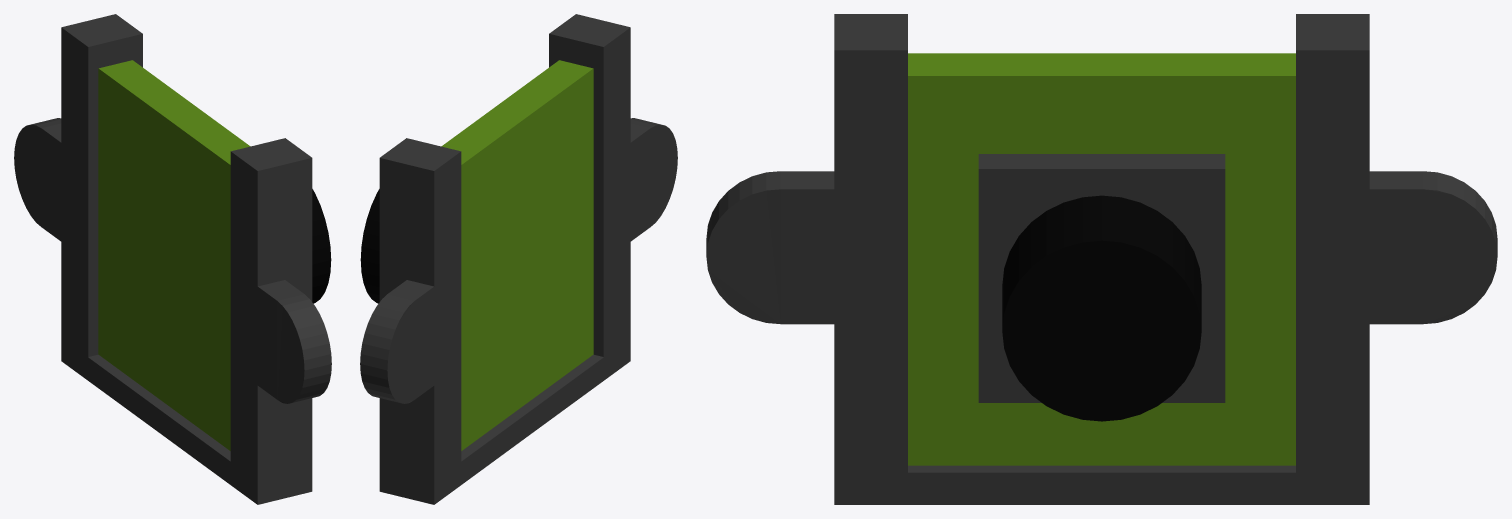
The model's file is camera.dae.
The picture shows the model from 3 angles, left to right: view 1: azimuth 30°, elevation 25°; view 2: azimuth 150°, elevation 25°; view 3: azimuth 270°, elevation 25°; orthographic projection. The views are drawn at different scales.
Parts seen in each view (by area): view 1: Camera__final_; view 2: Camera__final_; view 3: Camera__final_.
Boxes of the visible parts, left/top/right/bottom form: Camera__final_: left=14, top=14, right=331, bottom=504; Camera__final_: left=360, top=14, right=677, bottom=504; Camera__final_: left=706, top=14, right=1497, bottom=504.
Size of the model in its own units: 0.0119 by 0.0442 by 0.028.
